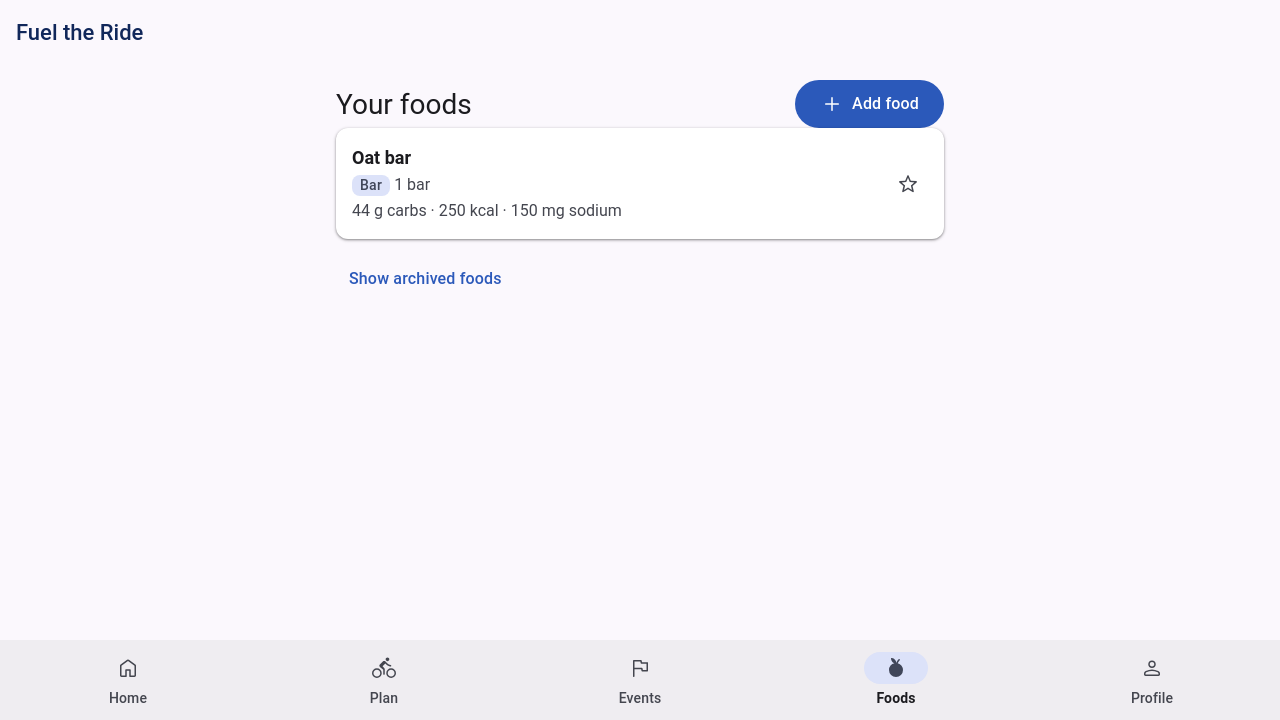
Scenario: top bar › "Fuel the Ride" goes back to Home
Click the link with aria-label "Fuel the Ride, go to Home".
click(80, 32)  # box [16,20,143,44]
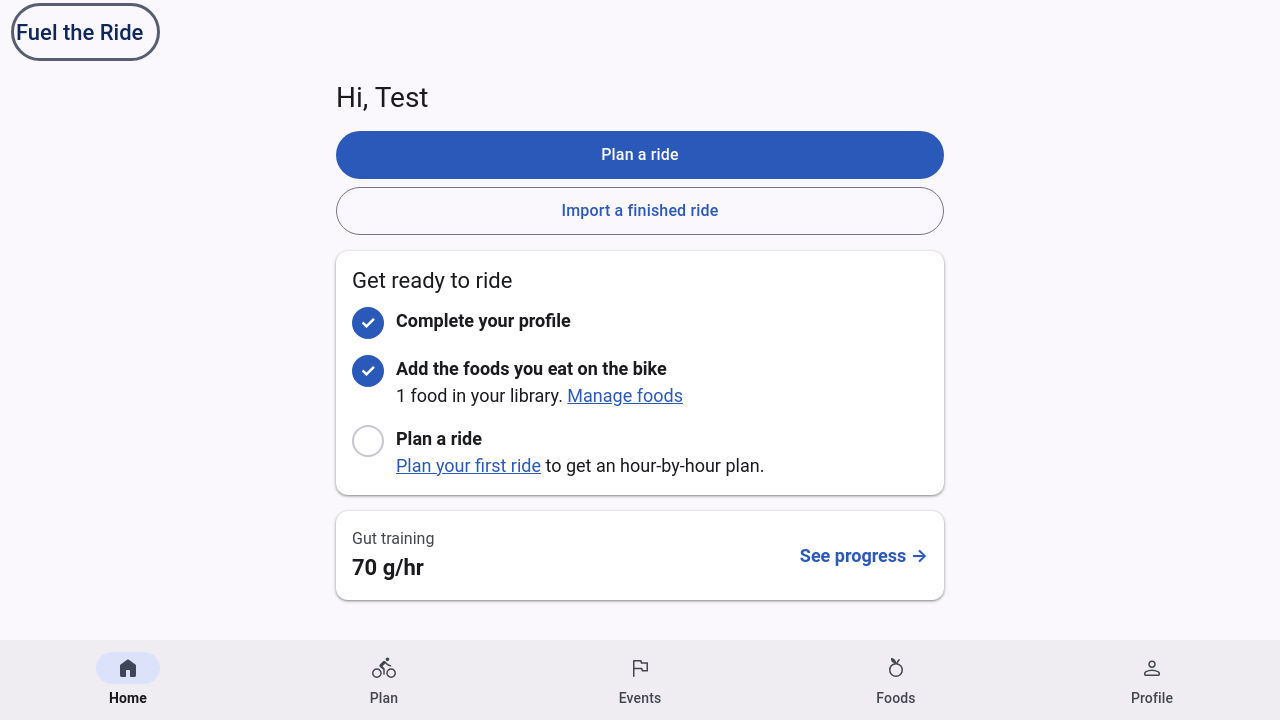
Expected: the heading "Hi, Test" is shown, [336,81,428,114]
